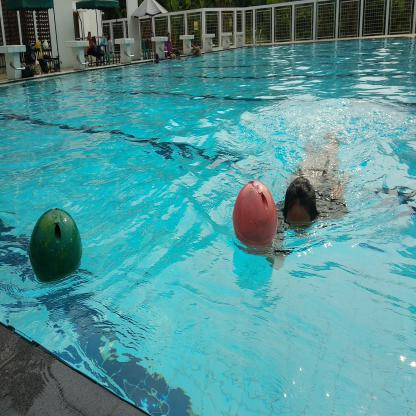green_buoy: (28, 204, 83, 281)
red_buoy: (229, 176, 280, 252)
